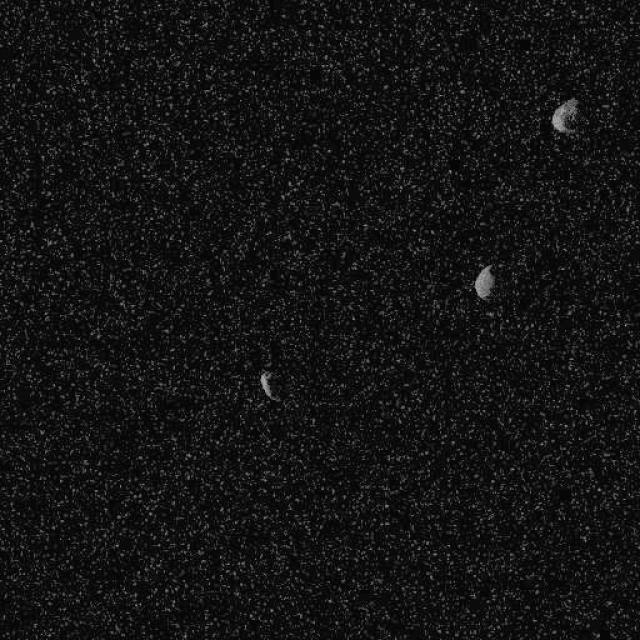D2: (550, 96, 579, 134), (473, 262, 495, 300), (258, 368, 282, 402)
